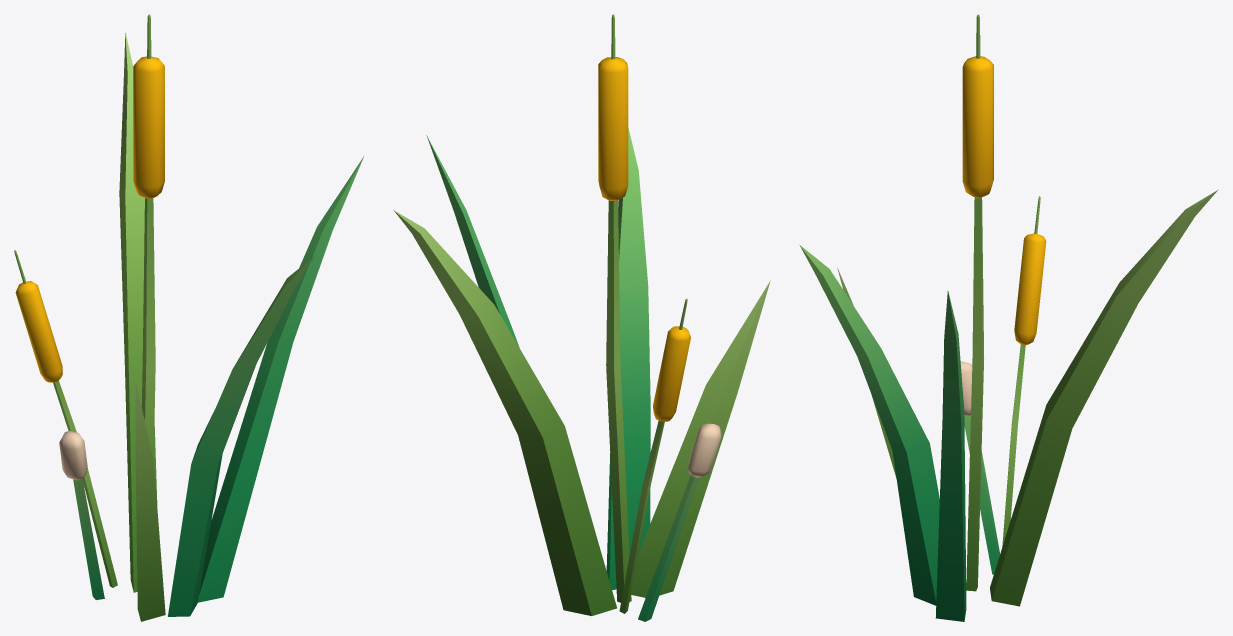
The model's file is SK_PlantD_001.FBX.
3 views of the same model, side by side, from view 1: azimuth 30°, elevation 25°; view 2: azimuth 150°, elevation 25°; view 3: azimuth 270°, elevation 25° (orthographic).
Visible parts, largest first — view 1: SK_PalntD_001; view 2: SK_PalntD_001; view 3: SK_PalntD_001.
Part boxes in pixels (x1=…): SK_PalntD_001: x1=14, y1=14, x2=363, y2=621; SK_PalntD_001: x1=393, y1=14, x2=770, y2=621; SK_PalntD_001: x1=799, y1=14, x2=1217, y2=621.
Size of the model in its own units: 28.9 by 52.73 by 34.65.
1 material, 1 textured.
